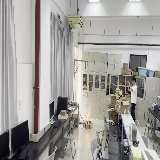fire: (84, 104, 90, 124)
